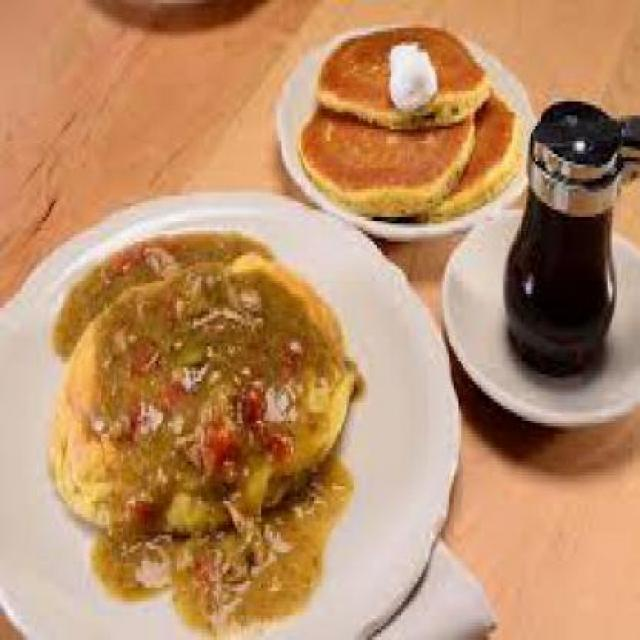ice cream: (386, 32, 436, 108)
omelette: (49, 238, 363, 532)
pancakes: (293, 21, 521, 213)
